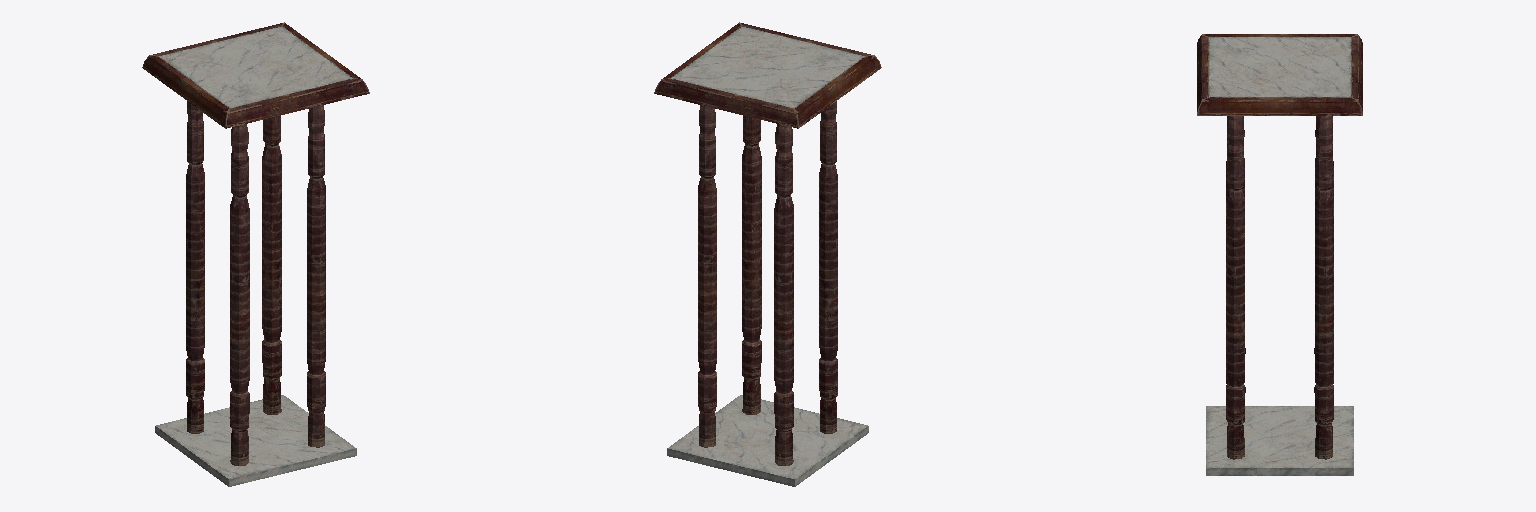
3 renders of one model, left to right at view 1: azimuth 30°, elevation 25°; view 2: azimuth 150°, elevation 25°; view 3: azimuth 270°, elevation 25°, orthographic.
Visible parts, largest first — view 1: Asylum_EndTable01_6; view 2: Asylum_EndTable01_6; view 3: Asylum_EndTable01_6.
Boxes of the visible parts, <box> form: Asylum_EndTable01_6: <box>142,22,369,486</box>; Asylum_EndTable01_6: <box>654,22,881,486</box>; Asylum_EndTable01_6: <box>1197,34,1362,475</box>.
Size of the model in its own units: 29.75 by 74.19 by 29.75.
Materials: 1 (1 with a texture image).